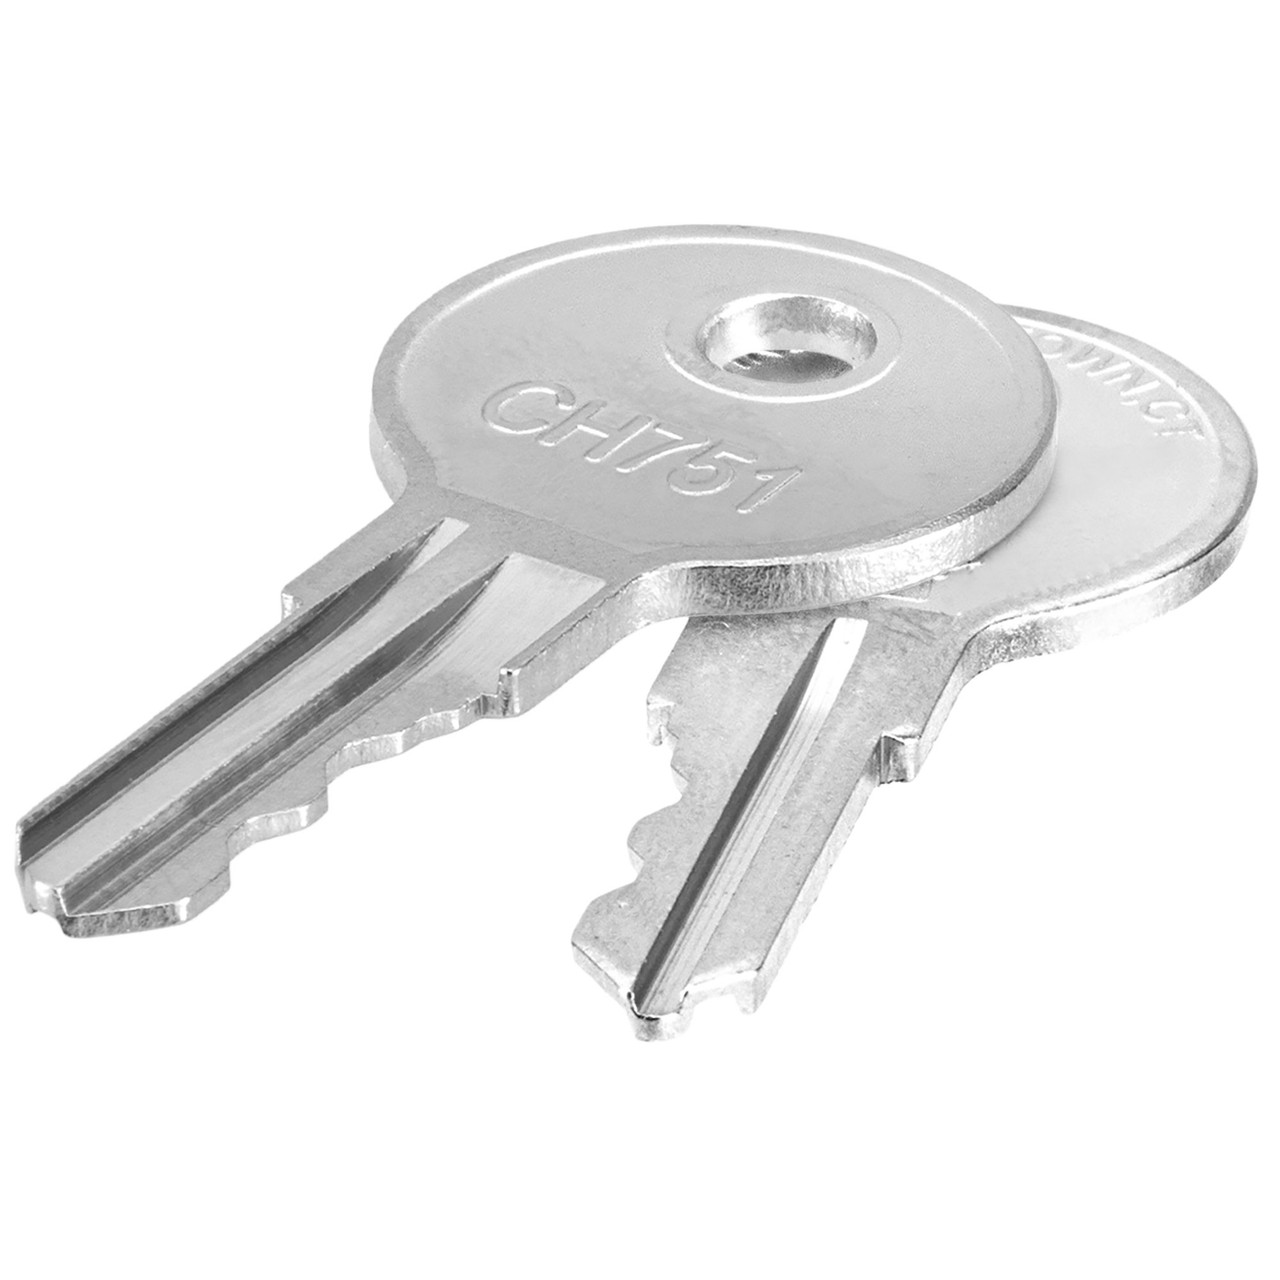key: (16, 229, 1053, 934), (563, 298, 1255, 1040)
